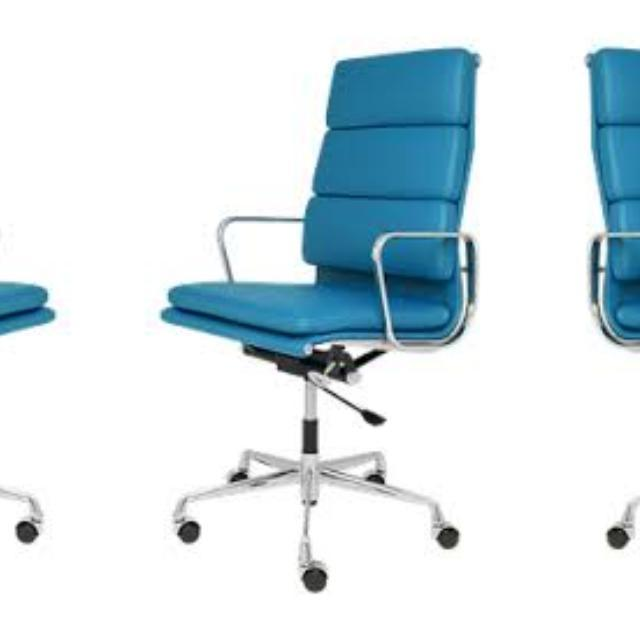obstacle: (132, 16, 516, 630), (549, 16, 640, 629), (0, 16, 82, 629)
